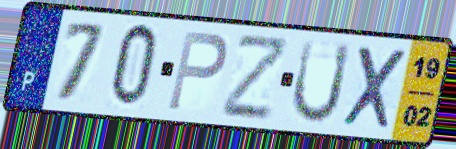0: (107, 20, 162, 114)
7: (58, 20, 108, 104)
P: (165, 28, 230, 114)
U: (288, 37, 354, 126)
X: (338, 42, 410, 133)
Z: (219, 35, 293, 122)
